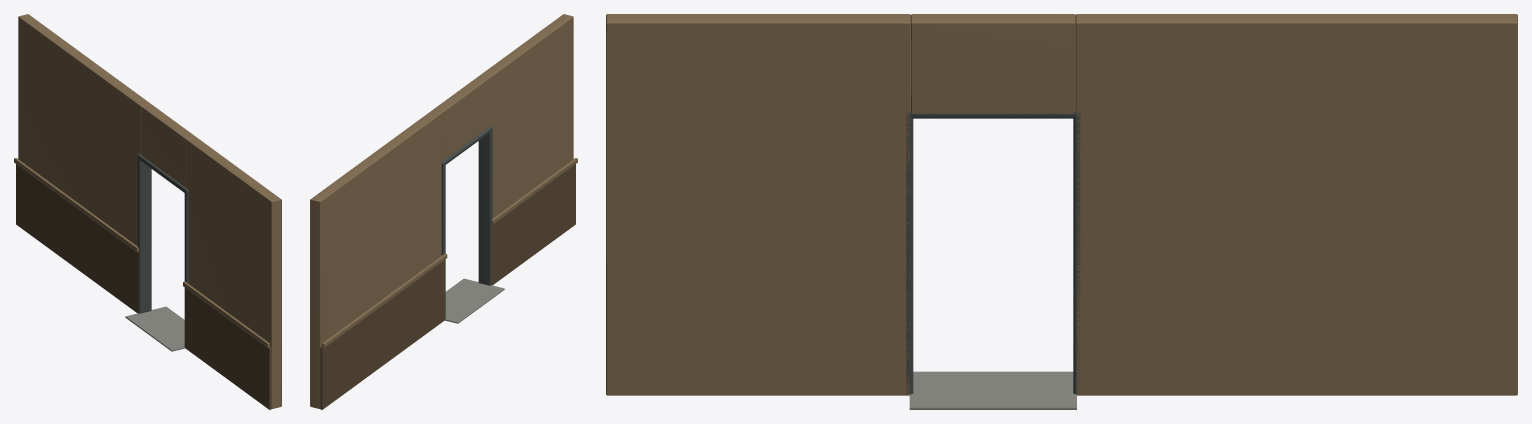
The model's file is Furniture_LeftPartition62.fbx.
3 renders of one model, left to right at view 1: azimuth 30°, elevation 25°; view 2: azimuth 150°, elevation 25°; view 3: azimuth 270°, elevation 25°, orthographic. The views are drawn at different scales.
Visible parts, largest first — view 1: Furniture_LeftPartition62; view 2: Furniture_LeftPartition62; view 3: Furniture_LeftPartition62.
Boxes of the visible parts, x1,y1,x2,y2 form: Furniture_LeftPartition62: (14,14,281,409); Furniture_LeftPartition62: (310,14,577,409); Furniture_LeftPartition62: (606,14,1517,409).
Bounding box in the file's own units: 62 × 301 × 664.
